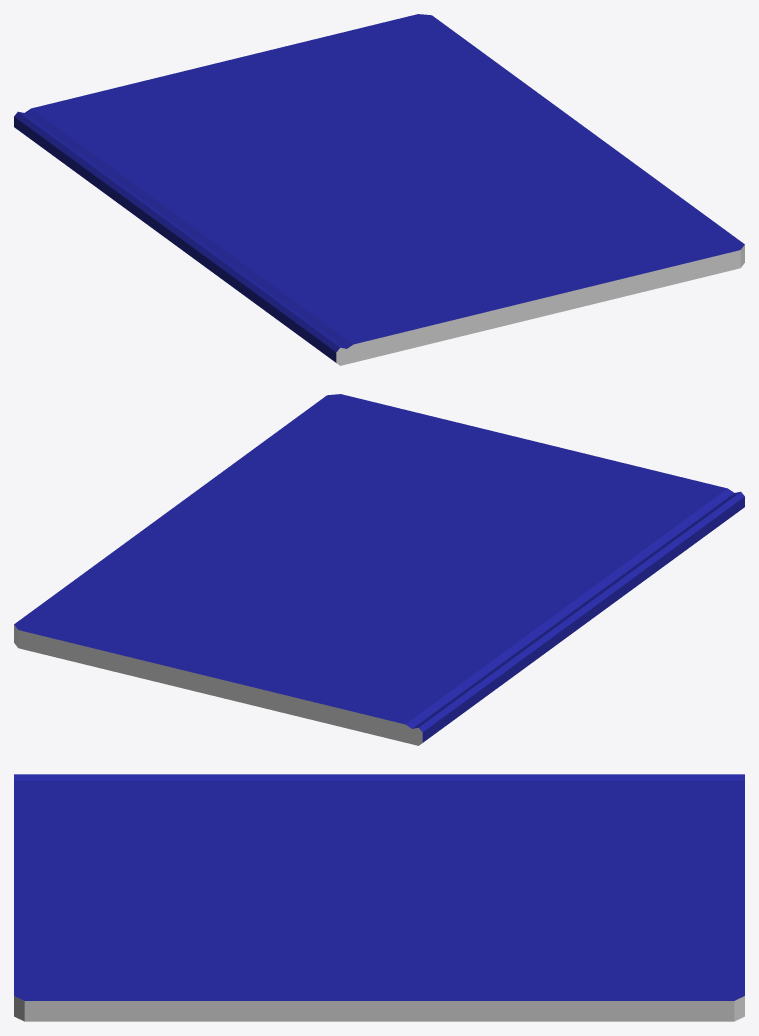
The model's file is Cahier_02.fbx.
3 views of the same model, one above another, from view 1: azimuth 30°, elevation 25°; view 2: azimuth 150°, elevation 25°; view 3: azimuth 270°, elevation 25° (orthographic). The views are drawn at different scales.
Parts seen in each view (by area): view 1: Cahier; view 2: Cahier; view 3: Cahier.
Part boxes in pixels (x1=…): Cahier: x1=14, y1=14, x2=744, y2=365; Cahier: x1=14, y1=394, x2=744, y2=745; Cahier: x1=14, y1=774, x2=744, y2=1021.
Size of the model in its own units: 23.68 by 32 by 1.
